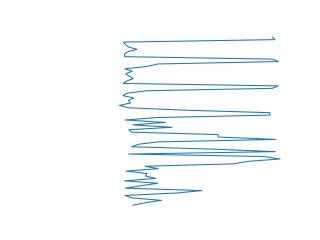crevasseRiverChannelBar: (118, 158, 286, 207)
majorRiverBedLagDeposit: (120, 121, 284, 163)
majorRiverChannelBar: (118, 35, 280, 117)
